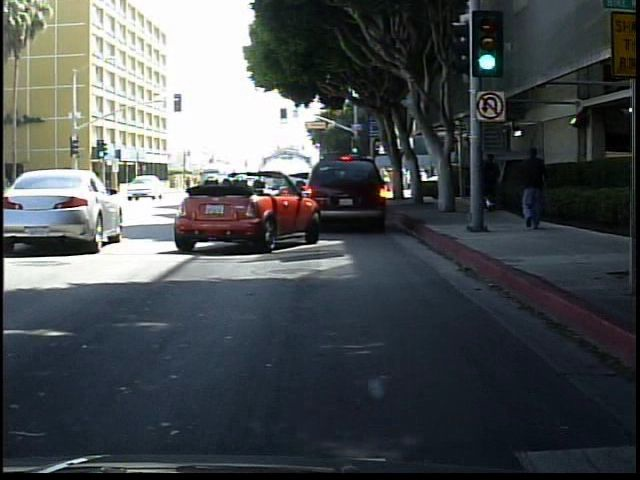person: (516, 140, 550, 232), (482, 148, 505, 216)
